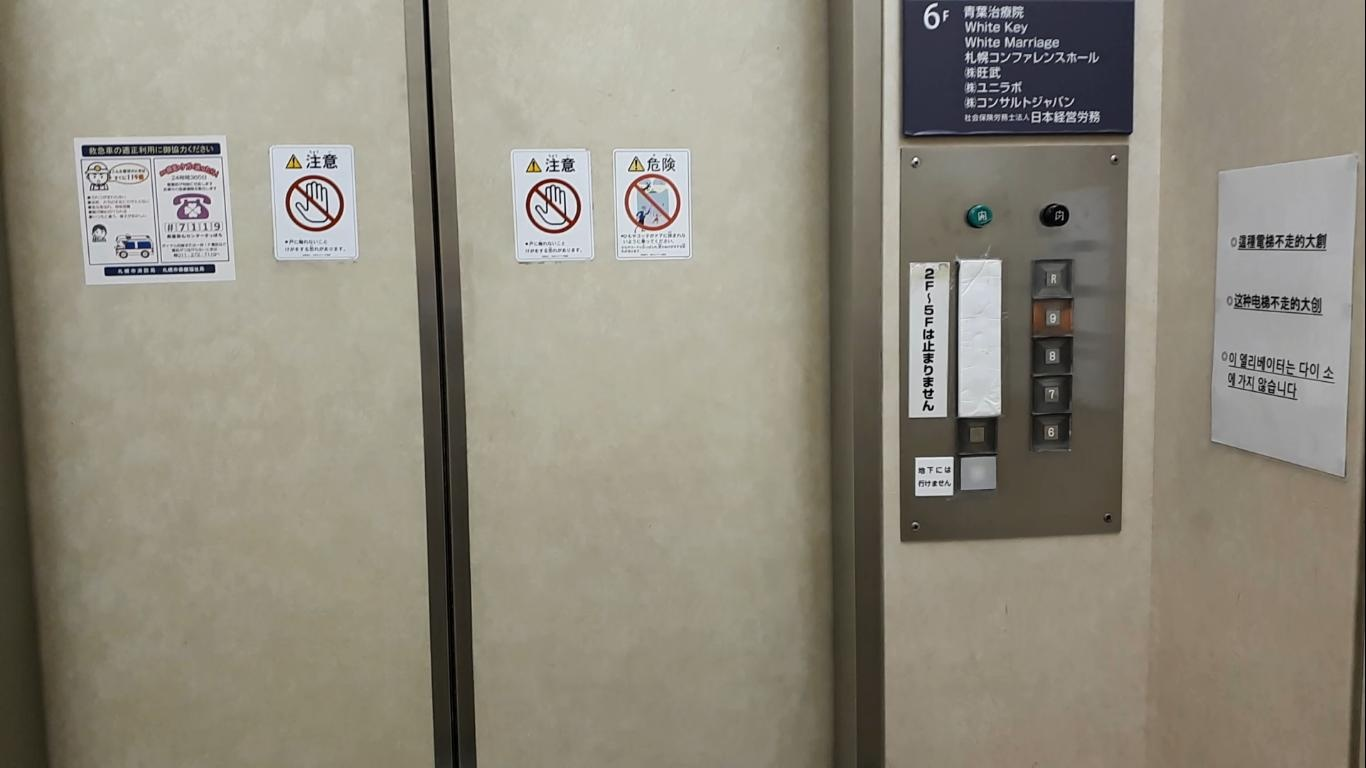6: (1030, 414, 1072, 451)
7: (1030, 375, 1073, 415)
8: (1030, 338, 1074, 375)
9: (1031, 299, 1074, 337)
R: (1032, 257, 1075, 298)
empty: (958, 415, 997, 453), (959, 455, 998, 490)
text: (1041, 203, 1069, 227), (966, 203, 991, 228)
